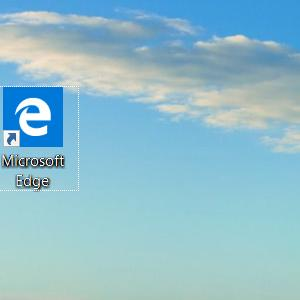edge: (3, 87, 63, 147)
